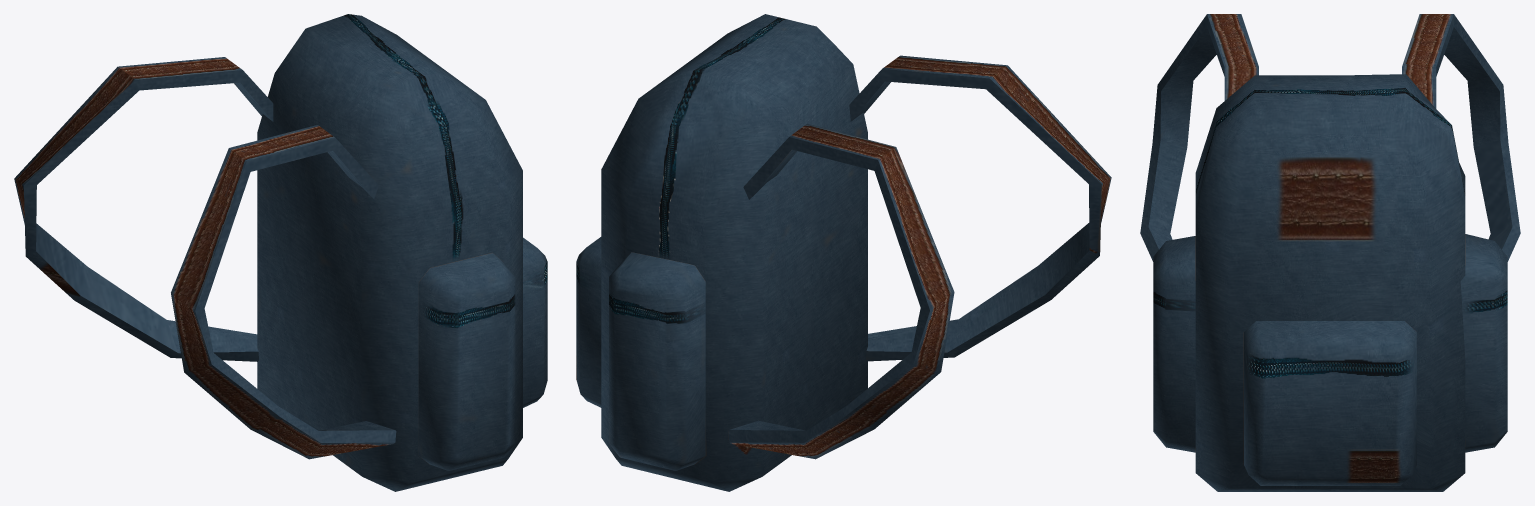
File: Backpack.glb
3 renders of one model, left to right at view 1: azimuth 30°, elevation 25°; view 2: azimuth 150°, elevation 25°; view 3: azimuth 270°, elevation 25°, orthographic. The views are drawn at different scales.
Visible parts, largest first — view 1: Backpack; view 2: Backpack; view 3: Backpack.
Boxes of the visible parts, box(x1,y1,x2,y2) form: Backpack: box(14, 14, 547, 491); Backpack: box(576, 14, 1111, 491); Backpack: box(1140, 14, 1520, 491).
Bounding box in the file's own units: 0.8821 × 0.7996 × 0.733.
Materials: 1 (1 with a texture image).
